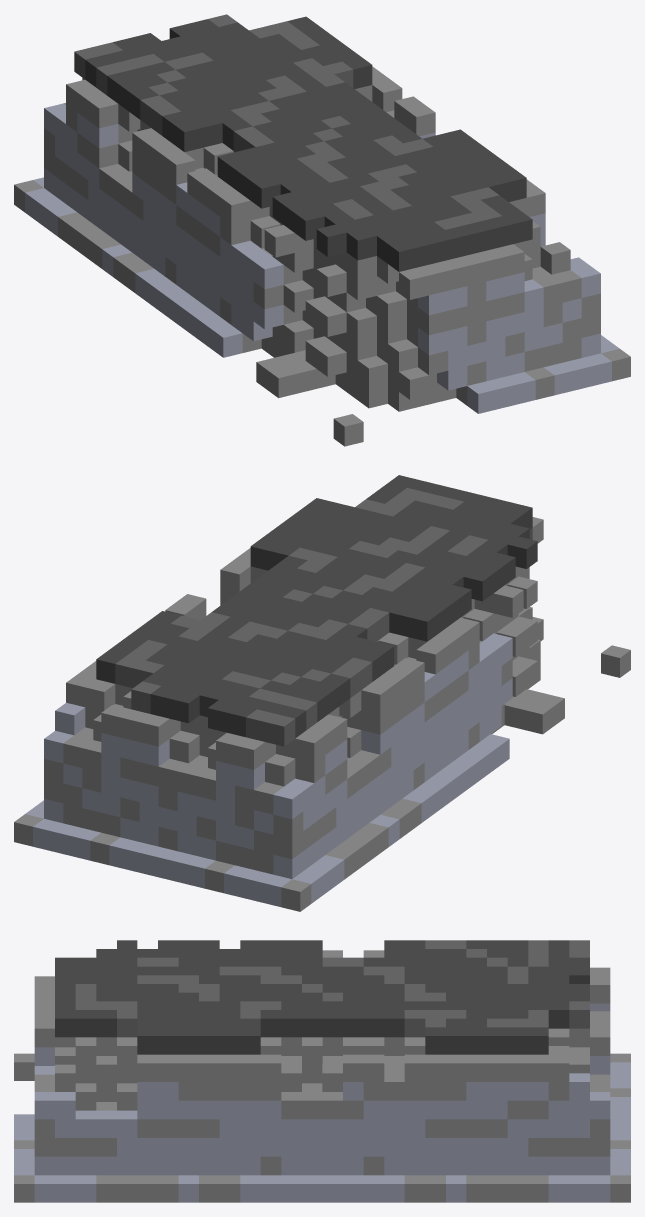
The model's file is Medieval Assets-182-Graveyard - Tomb - Variant2.obj.
The picture shows the model from 3 angles, top to bottom: view 1: azimuth 30°, elevation 25°; view 2: azimuth 150°, elevation 25°; view 3: azimuth 270°, elevation 25°; orthographic projection. The views are drawn at different scales.
Parts seen in each view (by area): view 1: Graveyard - Tomb - Variant2; view 2: Graveyard - Tomb - Variant2; view 3: Graveyard - Tomb - Variant2.
Boxes of the visible parts, x1=… form: Graveyard - Tomb - Variant2: x1=14, y1=14, x2=630, y2=446; Graveyard - Tomb - Variant2: x1=14, y1=475, x2=630, y2=911; Graveyard - Tomb - Variant2: x1=14, y1=940, x2=630, y2=1202.
Size of the model in its own units: 1.5 by 0.8 by 3.
1 material, 1 textured.
